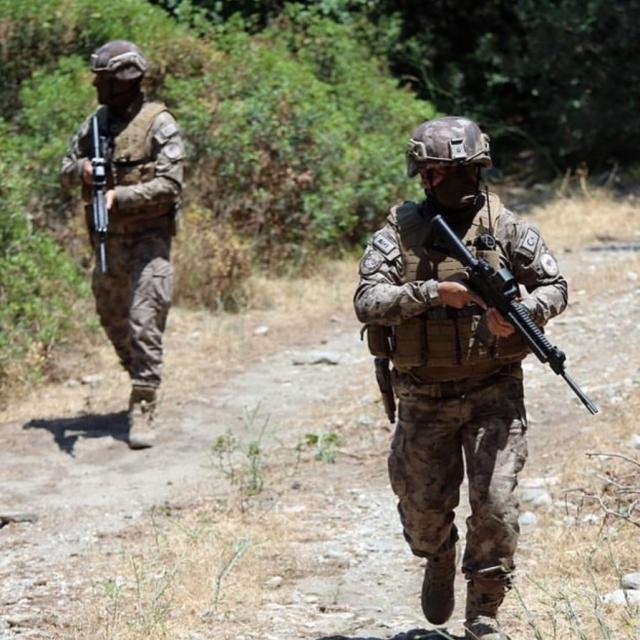poh_personel: (353, 115, 569, 640), (59, 40, 187, 450)
